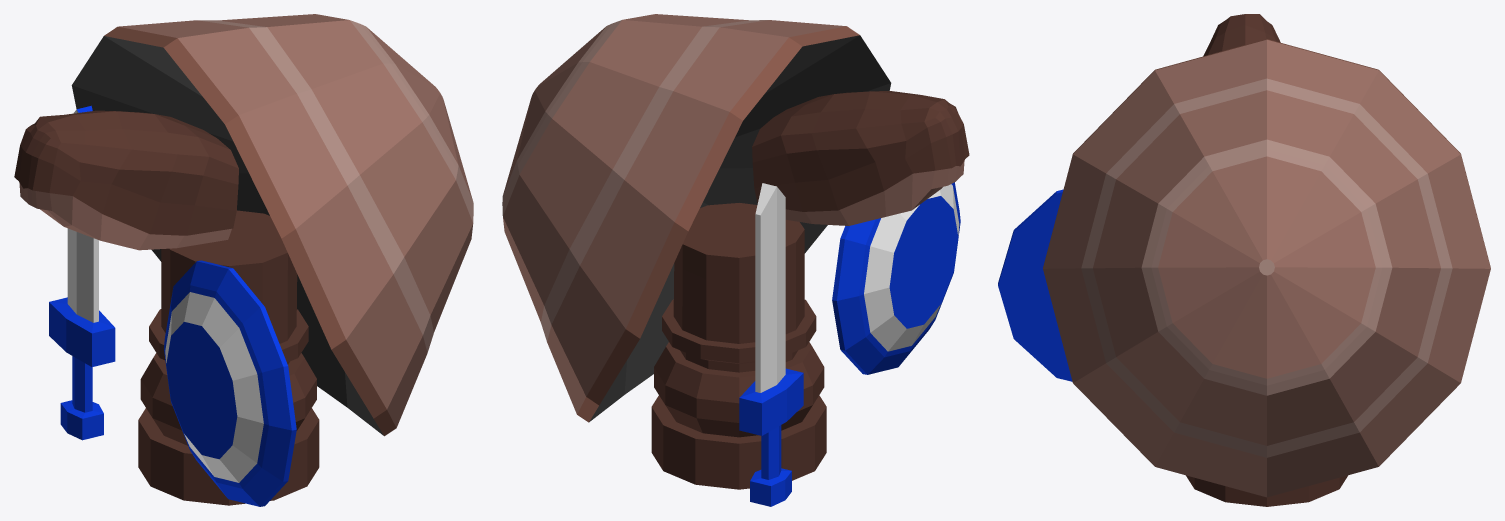
The model's file is SoldierTurtle.fbx.
The picture shows the model from 3 angles, left to right: view 1: azimuth 30°, elevation 25°; view 2: azimuth 150°, elevation 25°; view 3: azimuth 270°, elevation 25°; orthographic projection. The views are drawn at different scales.
Visible parts, largest first — view 1: Cube.001; view 2: Cube.001; view 3: Cube.001.
Boxes of the visible parts, x1,y1,x2,y2 form: Cube.001: [14, 14, 473, 506]; Cube.001: [502, 14, 969, 506]; Cube.001: [998, 14, 1490, 506].
Size of the model in its own units: 86.42 by 82.44 by 90.12.
2 materials, 1 textured.
